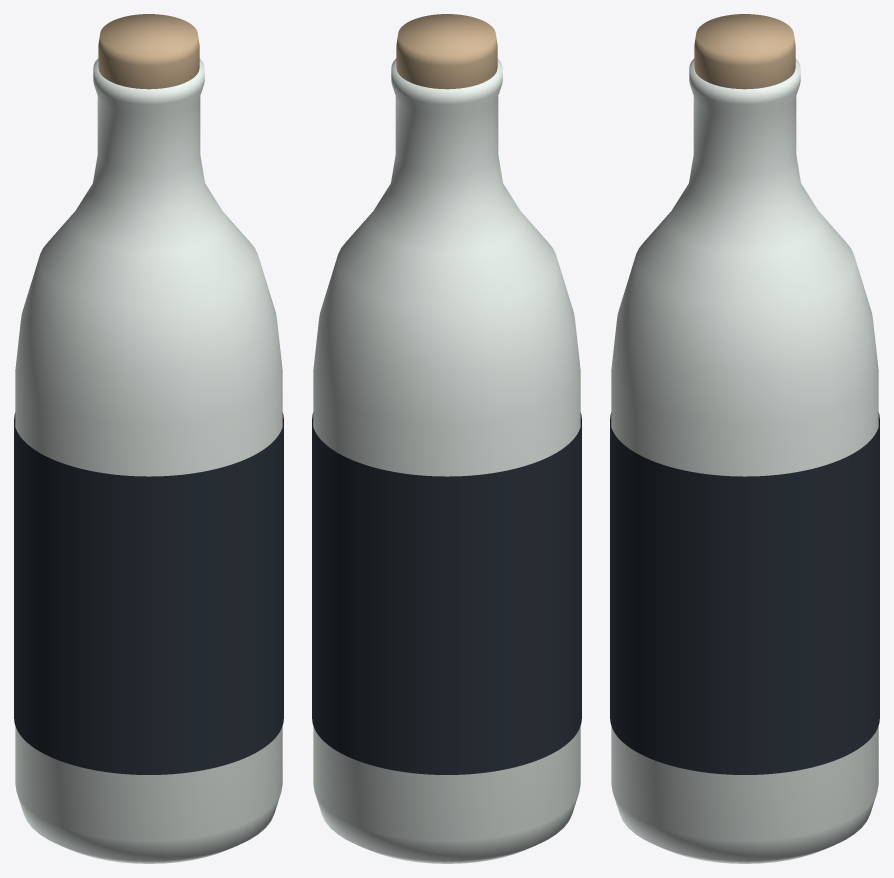
File: whiskey_tag_minimal.glb
3 views of the same model, side by side, from view 1: azimuth 30°, elevation 25°; view 2: azimuth 150°, elevation 25°; view 3: azimuth 270°, elevation 25° (orthographic).
Parts seen in each view (by area): view 1: Glass, Label_band, Cap; view 2: Glass, Label_band, Cap; view 3: Glass, Label_band, Cap.
Part boxes in pixels (<box>): Glass: <box>15,58,282,863</box>; Label_band: <box>14,412,283,774</box>; Cap: <box>98,14,199,89</box>; Glass: <box>313,58,580,863</box>; Label_band: <box>312,412,581,774</box>; Cap: <box>396,14,497,89</box>; Glass: <box>611,58,878,863</box>; Label_band: <box>610,412,879,774</box>; Cap: <box>694,14,795,89</box>.
Bounding box in the file's own units: 0.0737 × 0.236 × 0.0737.
